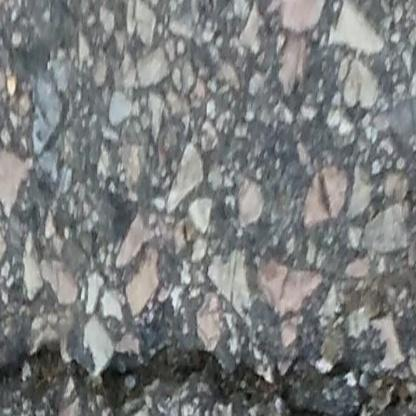Cracks: (0, 346, 416, 416)
